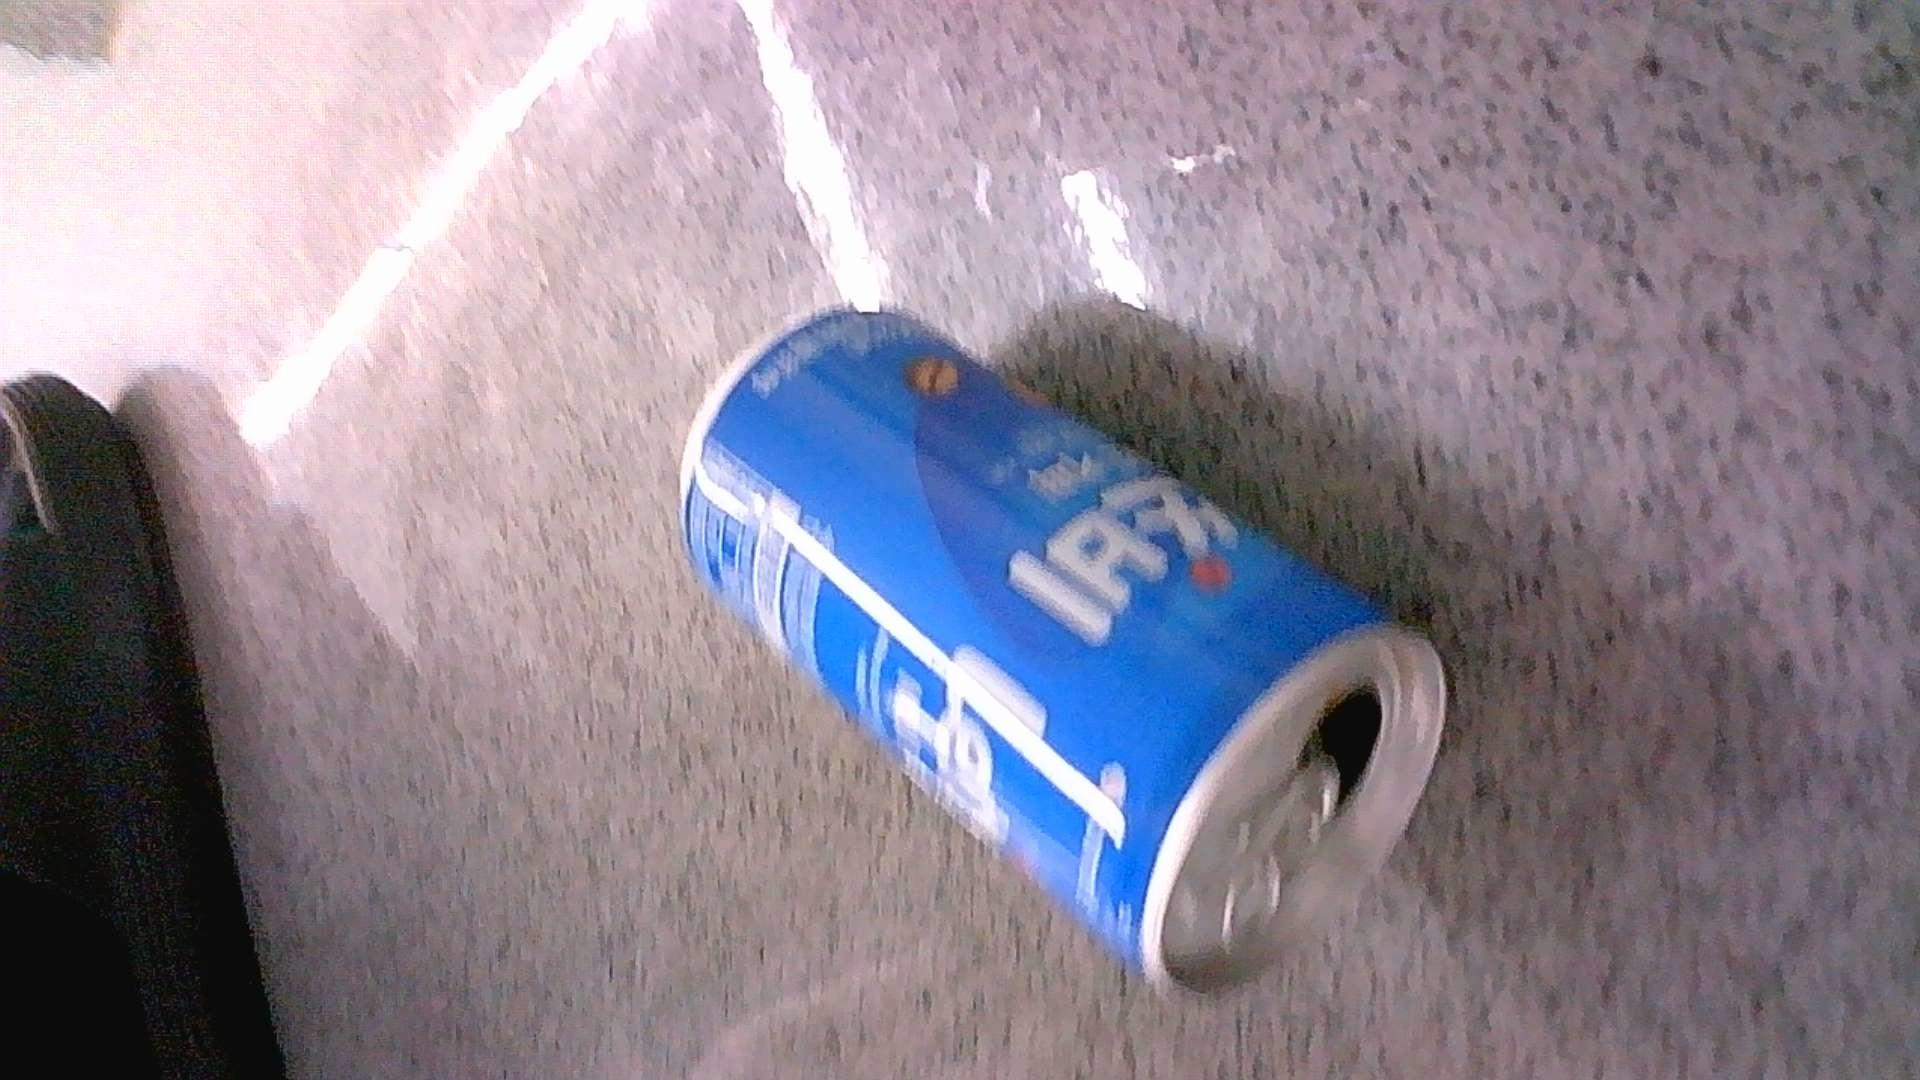letsbe: (676, 303, 1449, 997)
